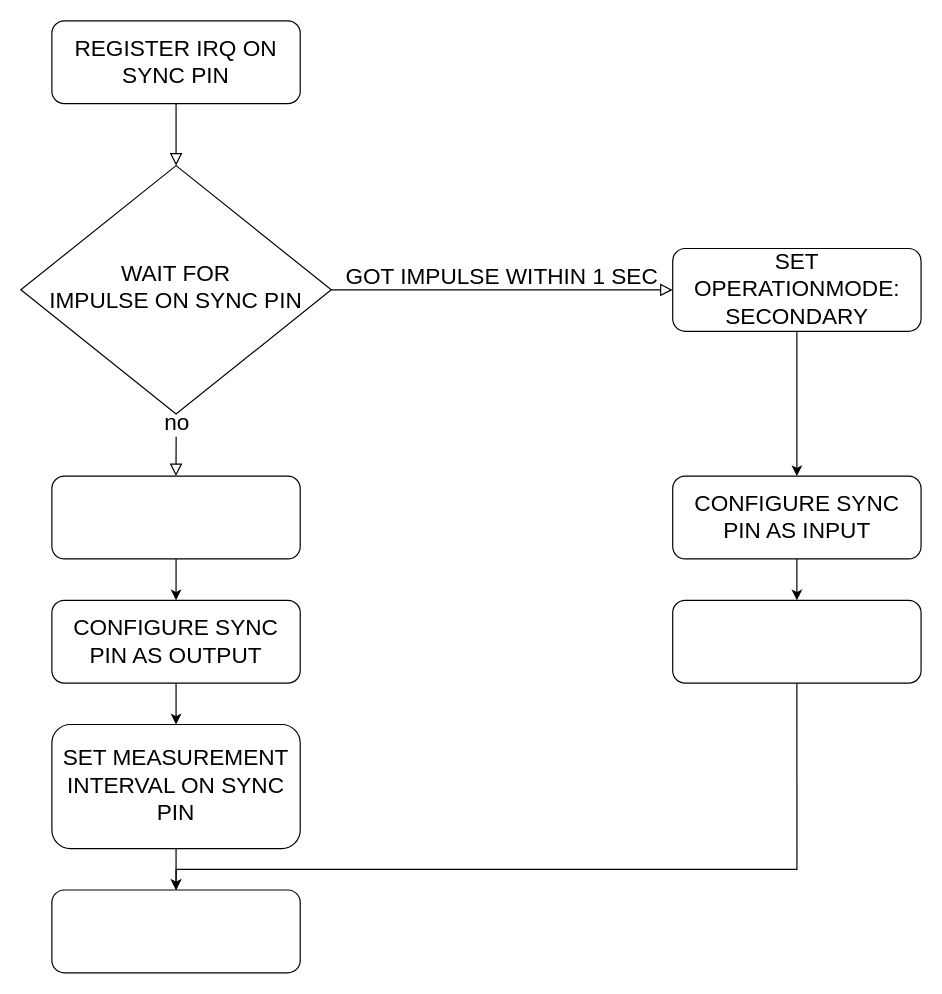
This 942x994 diagram has some shape labels left out. The shapes that lost their labels are listed below. From the top down, each one's centre as x and y in pixels, then its label:
At point 175,517: "SET OPERATIONMODE: PRIMARY".
At point 796,641: "ENABlE IRQ ON SYNC PIN".
At point 175,931: "RETURN".
